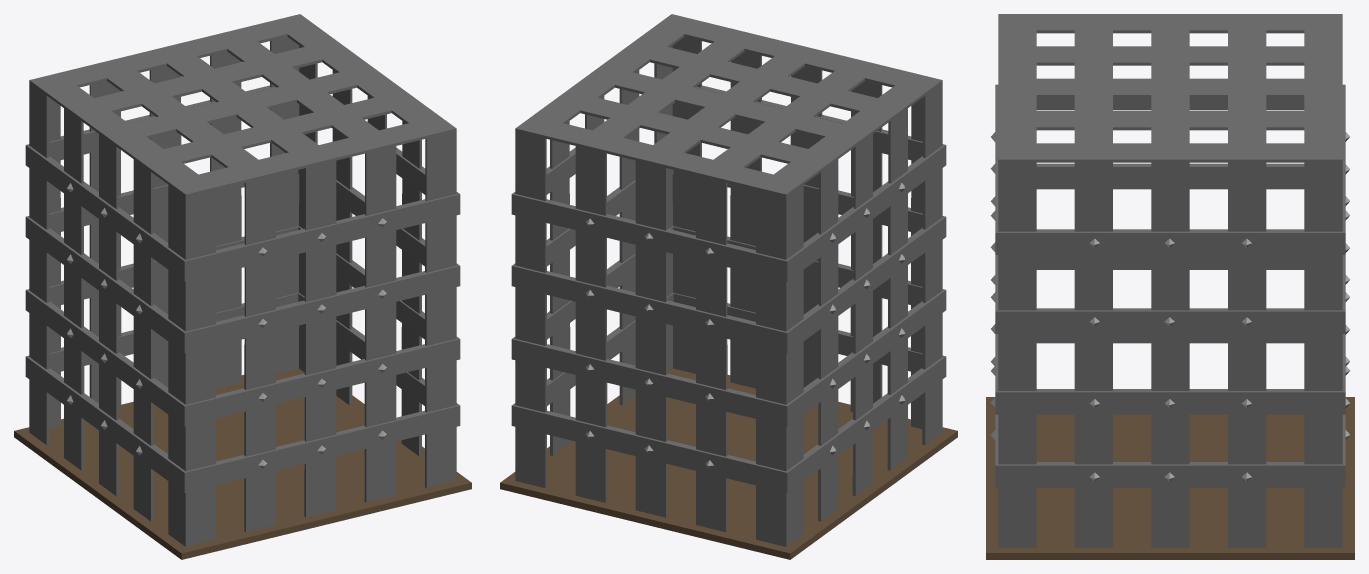
The model's file is cage.glb.
3 renders of one model, left to right at view 1: azimuth 30°, elevation 25°; view 2: azimuth 150°, elevation 25°; view 3: azimuth 270°, elevation 25°, orthographic. The views are drawn at different scales.
Parts seen in each view (by area): view 1: torture_device_011; view 2: torture_device_011; view 3: torture_device_011.
Boxes of the visible parts, x1,y1,x2,y2 form: torture_device_011: (14,14,471,559); torture_device_011: (500,14,957,559); torture_device_011: (986,14,1354,559).
Bounding box in the file's own units: 1.69 × 2 × 1.69.
